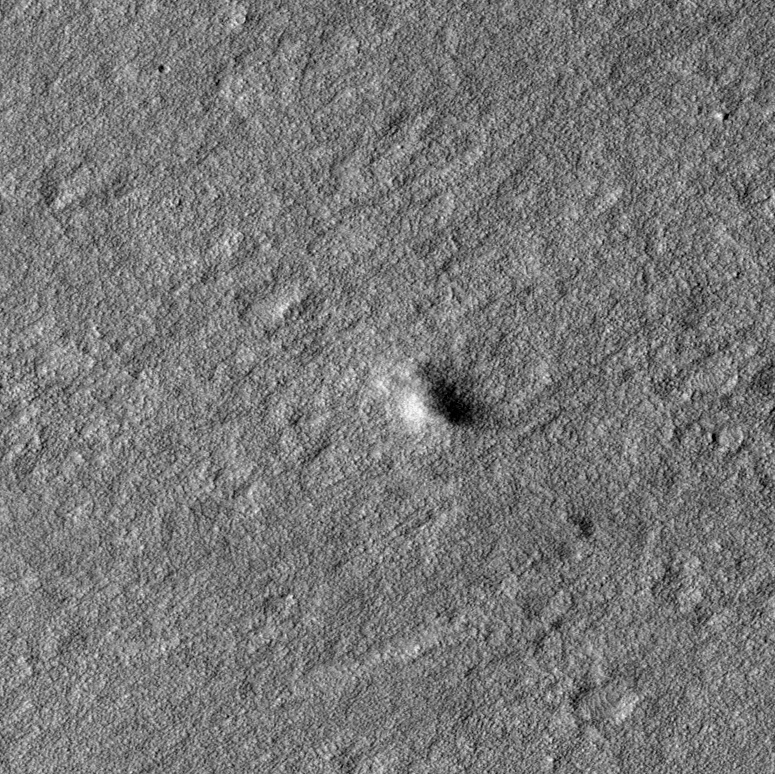dust_devil: (390, 361, 493, 437)
